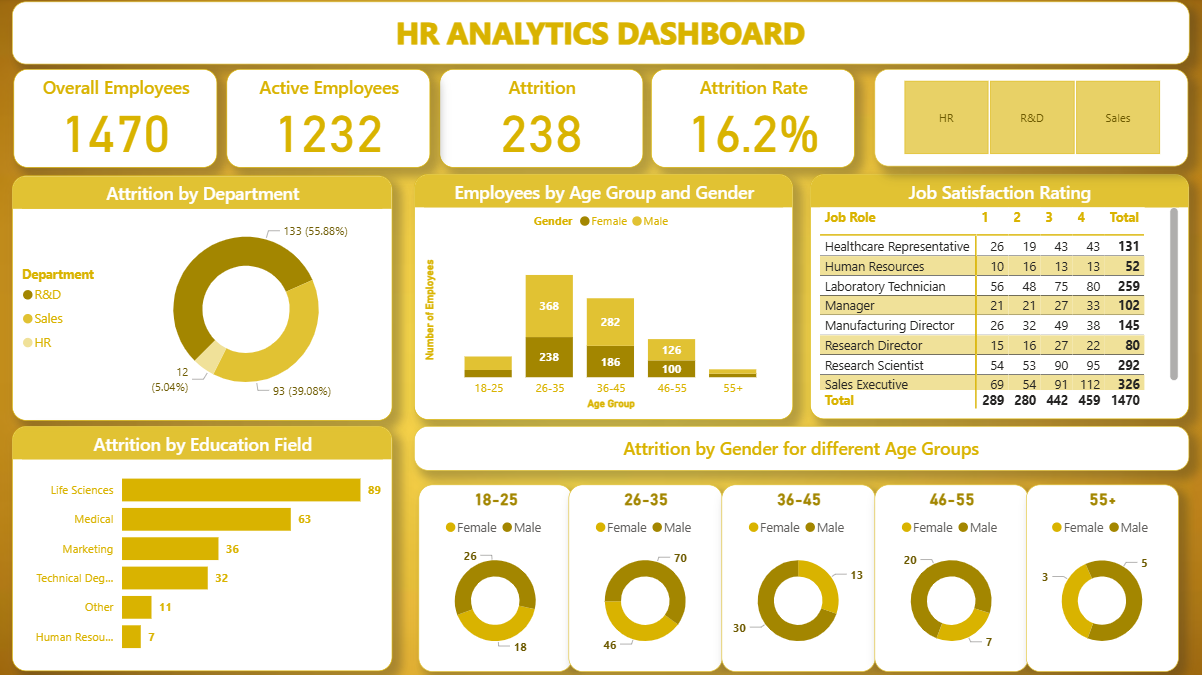

The dashboard page shown, as its layout file describes it:
{"tool":"powerbi","page":{"name":"Page 1","canvas":[1280,720],"ordinal":0},"visuals":[{"type":"textbox","box":[15.9,4.8,1248.6,66.8],"z":0},{"type":"card","title":"Overall Employees","fields":{"Values":["Count(Sheet1.EmpID)"]},"box":[17.5,76.3,216.3,105],"z":1000},{"type":"card","title":"Attrition","fields":{"Values":["Sum(Sheet1.AttritionCount)"]},"box":[469.2,76.3,216.3,105],"z":2000},{"type":"card","title":"Attrition Rate","fields":{"Values":["HR Dataset.AttritionRate"]},"box":[693.5,76.3,216.3,105],"z":3000},{"type":"card","title":"Active Employees","fields":{"Values":["HR Dataset.ActiveEmployees"]},"box":[243.4,76.3,216.3,105],"z":4000},{"type":"donutChart","title":"Attrition by Department","fields":{"Category":["HR Dataset.Department"],"Y":["Sum(HR Dataset.AttritionCount)"]},"box":[16.7,190,403.3,260],"z":5000},{"type":"columnChart","title":"Employees by Age Group and Gender","fields":{"Category":["HR Dataset.AgeGroup"],"Series":["HR Dataset.Gender"],"Y":["Count(HR Dataset.EmpID)"]},"box":[442.2,187.7,402,260.9],"z":6000},{"type":"pivotTable","title":"Job Satisfaction Rating","fields":{"Values":["Count(HR Dataset.EmpID)"],"Columns":["HR Dataset.JobSatisfaction"],"Rows":["HR Dataset.JobRole"]},"box":[861.7,188.3,401.7,260],"z":7000},{"type":"barChart","title":"Attrition by Education Field ","fields":{"Category":["HR Dataset.EducationField"],"Y":["Sum(HR Dataset.AttritionCount)"]},"box":[16.7,455,403.3,260],"z":8000},{"type":"textbox","box":[441.7,455,821.7,47],"z":9000},{"type":"donutChart","title":"18-25","fields":{"Category":["HR Dataset.Gender"],"Y":["Sum(HR Dataset.AttritionCount)"],"Series":["HR Dataset.AgeGroup"]},"box":[446.7,516.7,163.3,198.3],"z":10000},{"type":"donutChart","title":"26-35","fields":{"Category":["HR Dataset.Gender"],"Y":["Sum(HR Dataset.AttritionCount)"],"Series":["HR Dataset.AgeGroup"]},"box":[606.7,516.7,163.3,198.3],"z":11000},{"type":"donutChart","title":"36-45","fields":{"Category":["HR Dataset.Gender"],"Y":["Sum(HR Dataset.AttritionCount)"],"Series":["HR Dataset.AgeGroup"]},"box":[768.3,516.7,163.3,198.3],"z":12000},{"type":"donutChart","title":"46-55","fields":{"Category":["HR Dataset.Gender"],"Y":["Sum(HR Dataset.AttritionCount)"],"Series":["HR Dataset.AgeGroup"]},"box":[930,516.7,163.3,198.3],"z":13000},{"type":"slicer","fields":{"Values":["HR Dataset.Department"]},"box":[930.5,76.3,332.4,103.4],"z":14000},{"type":"donutChart","title":"55+","fields":{"Category":["HR Dataset.Gender"],"Y":["Sum(HR Dataset.AttritionCount)"],"Series":["HR Dataset.AgeGroup"]},"box":[1091.7,516.7,161.7,198.3],"z":15000}]}

Visuals, with their boxes in screenshot pixels (x1, y1, x2, y2), scaled from the page's 1280x720 canvas onto the 1202x675 screenshot:
textbox: x1=15 y1=4 x2=1187 y2=67
"Overall Employees" card: x1=16 y1=72 x2=220 y2=170
"Attrition" card: x1=441 y1=72 x2=644 y2=170
"Attrition Rate" card: x1=651 y1=72 x2=854 y2=170
"Active Employees" card: x1=229 y1=72 x2=432 y2=170
"Attrition by Department" donutChart: x1=16 y1=178 x2=394 y2=422
"Employees by Age Group and Gender" columnChart: x1=415 y1=176 x2=793 y2=421
"Job Satisfaction Rating" pivotTable: x1=809 y1=177 x2=1186 y2=420
"Attrition by Education Field " barChart: x1=16 y1=427 x2=394 y2=670
textbox: x1=415 y1=427 x2=1186 y2=471
"18-25" donutChart: x1=419 y1=484 x2=573 y2=670
"26-35" donutChart: x1=570 y1=484 x2=723 y2=670
"36-45" donutChart: x1=721 y1=484 x2=875 y2=670
"46-55" donutChart: x1=873 y1=484 x2=1027 y2=670
slicer - HR Dataset.Department: x1=874 y1=72 x2=1186 y2=168
"55+" donutChart: x1=1025 y1=484 x2=1177 y2=670
